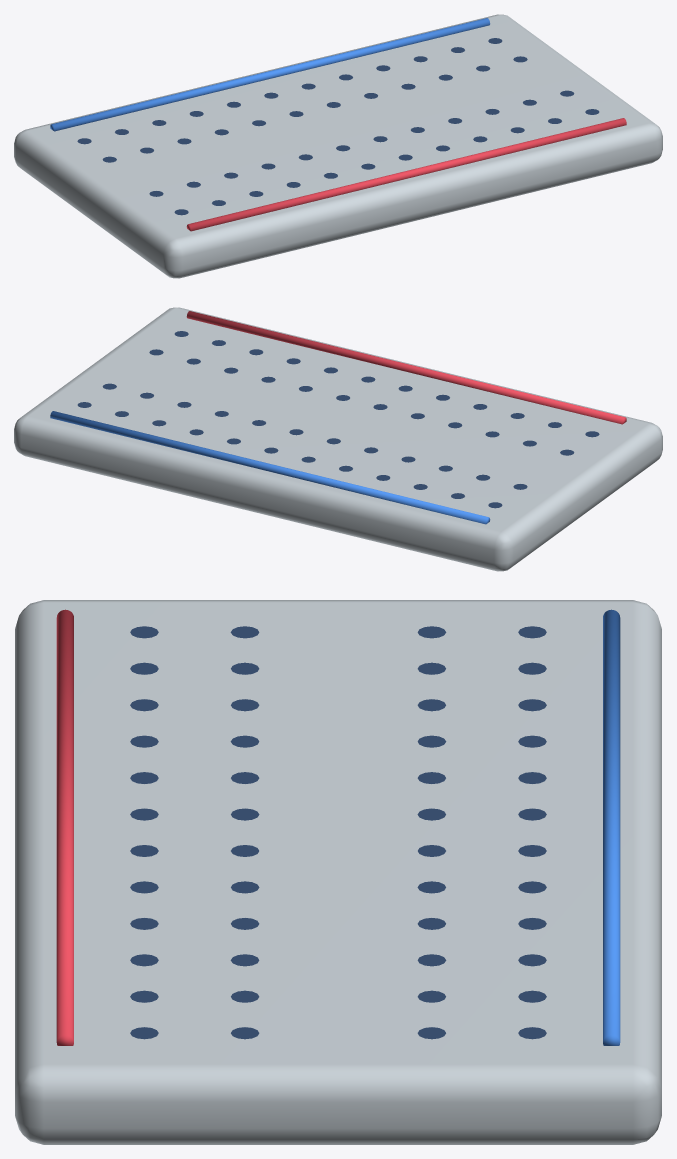
Rendered from breadboard-quality.glb.
3 renders of one model, top to bottom at view 1: azimuth 30°, elevation 25°; view 2: azimuth 150°, elevation 25°; view 3: azimuth 270°, elevation 25°, orthographic. The views are drawn at different scales.
Parts seen in each view (by area): view 1: Breadboard; view 2: Breadboard; view 3: Breadboard.
Part boxes in pixels (x1,y1,x2,y2): Breadboard: [14, 14, 662, 278]; Breadboard: [14, 307, 662, 571]; Breadboard: [15, 600, 661, 1144].
Size of the model in its own units: 1.6 by 0.137 by 0.9.
